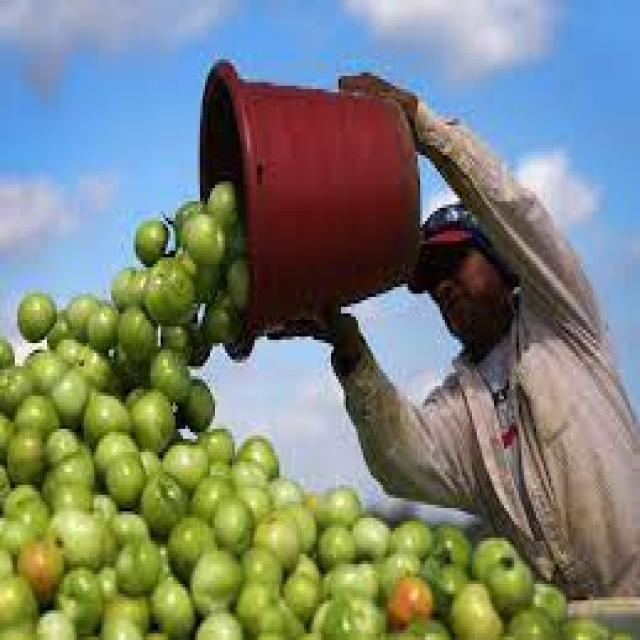Organik: (2, 249, 199, 640), (0, 376, 267, 640), (0, 466, 317, 640), (182, 517, 544, 640)
